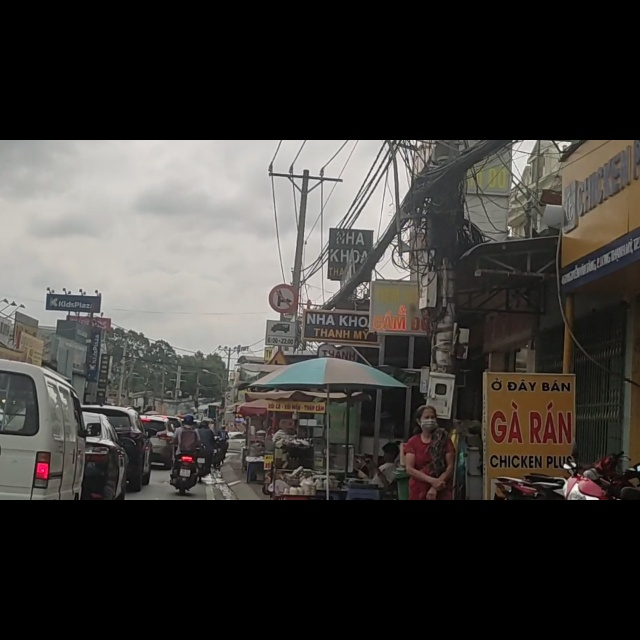bien_cam: (269, 255, 297, 306), (265, 321, 297, 363), (263, 378, 295, 405)
